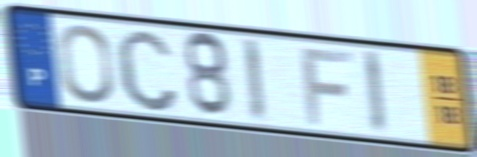8: (181, 30, 234, 122)
C: (113, 25, 182, 115)
F: (298, 46, 357, 128)
I: (239, 35, 270, 126), (360, 47, 390, 137)
O: (56, 22, 117, 106)
